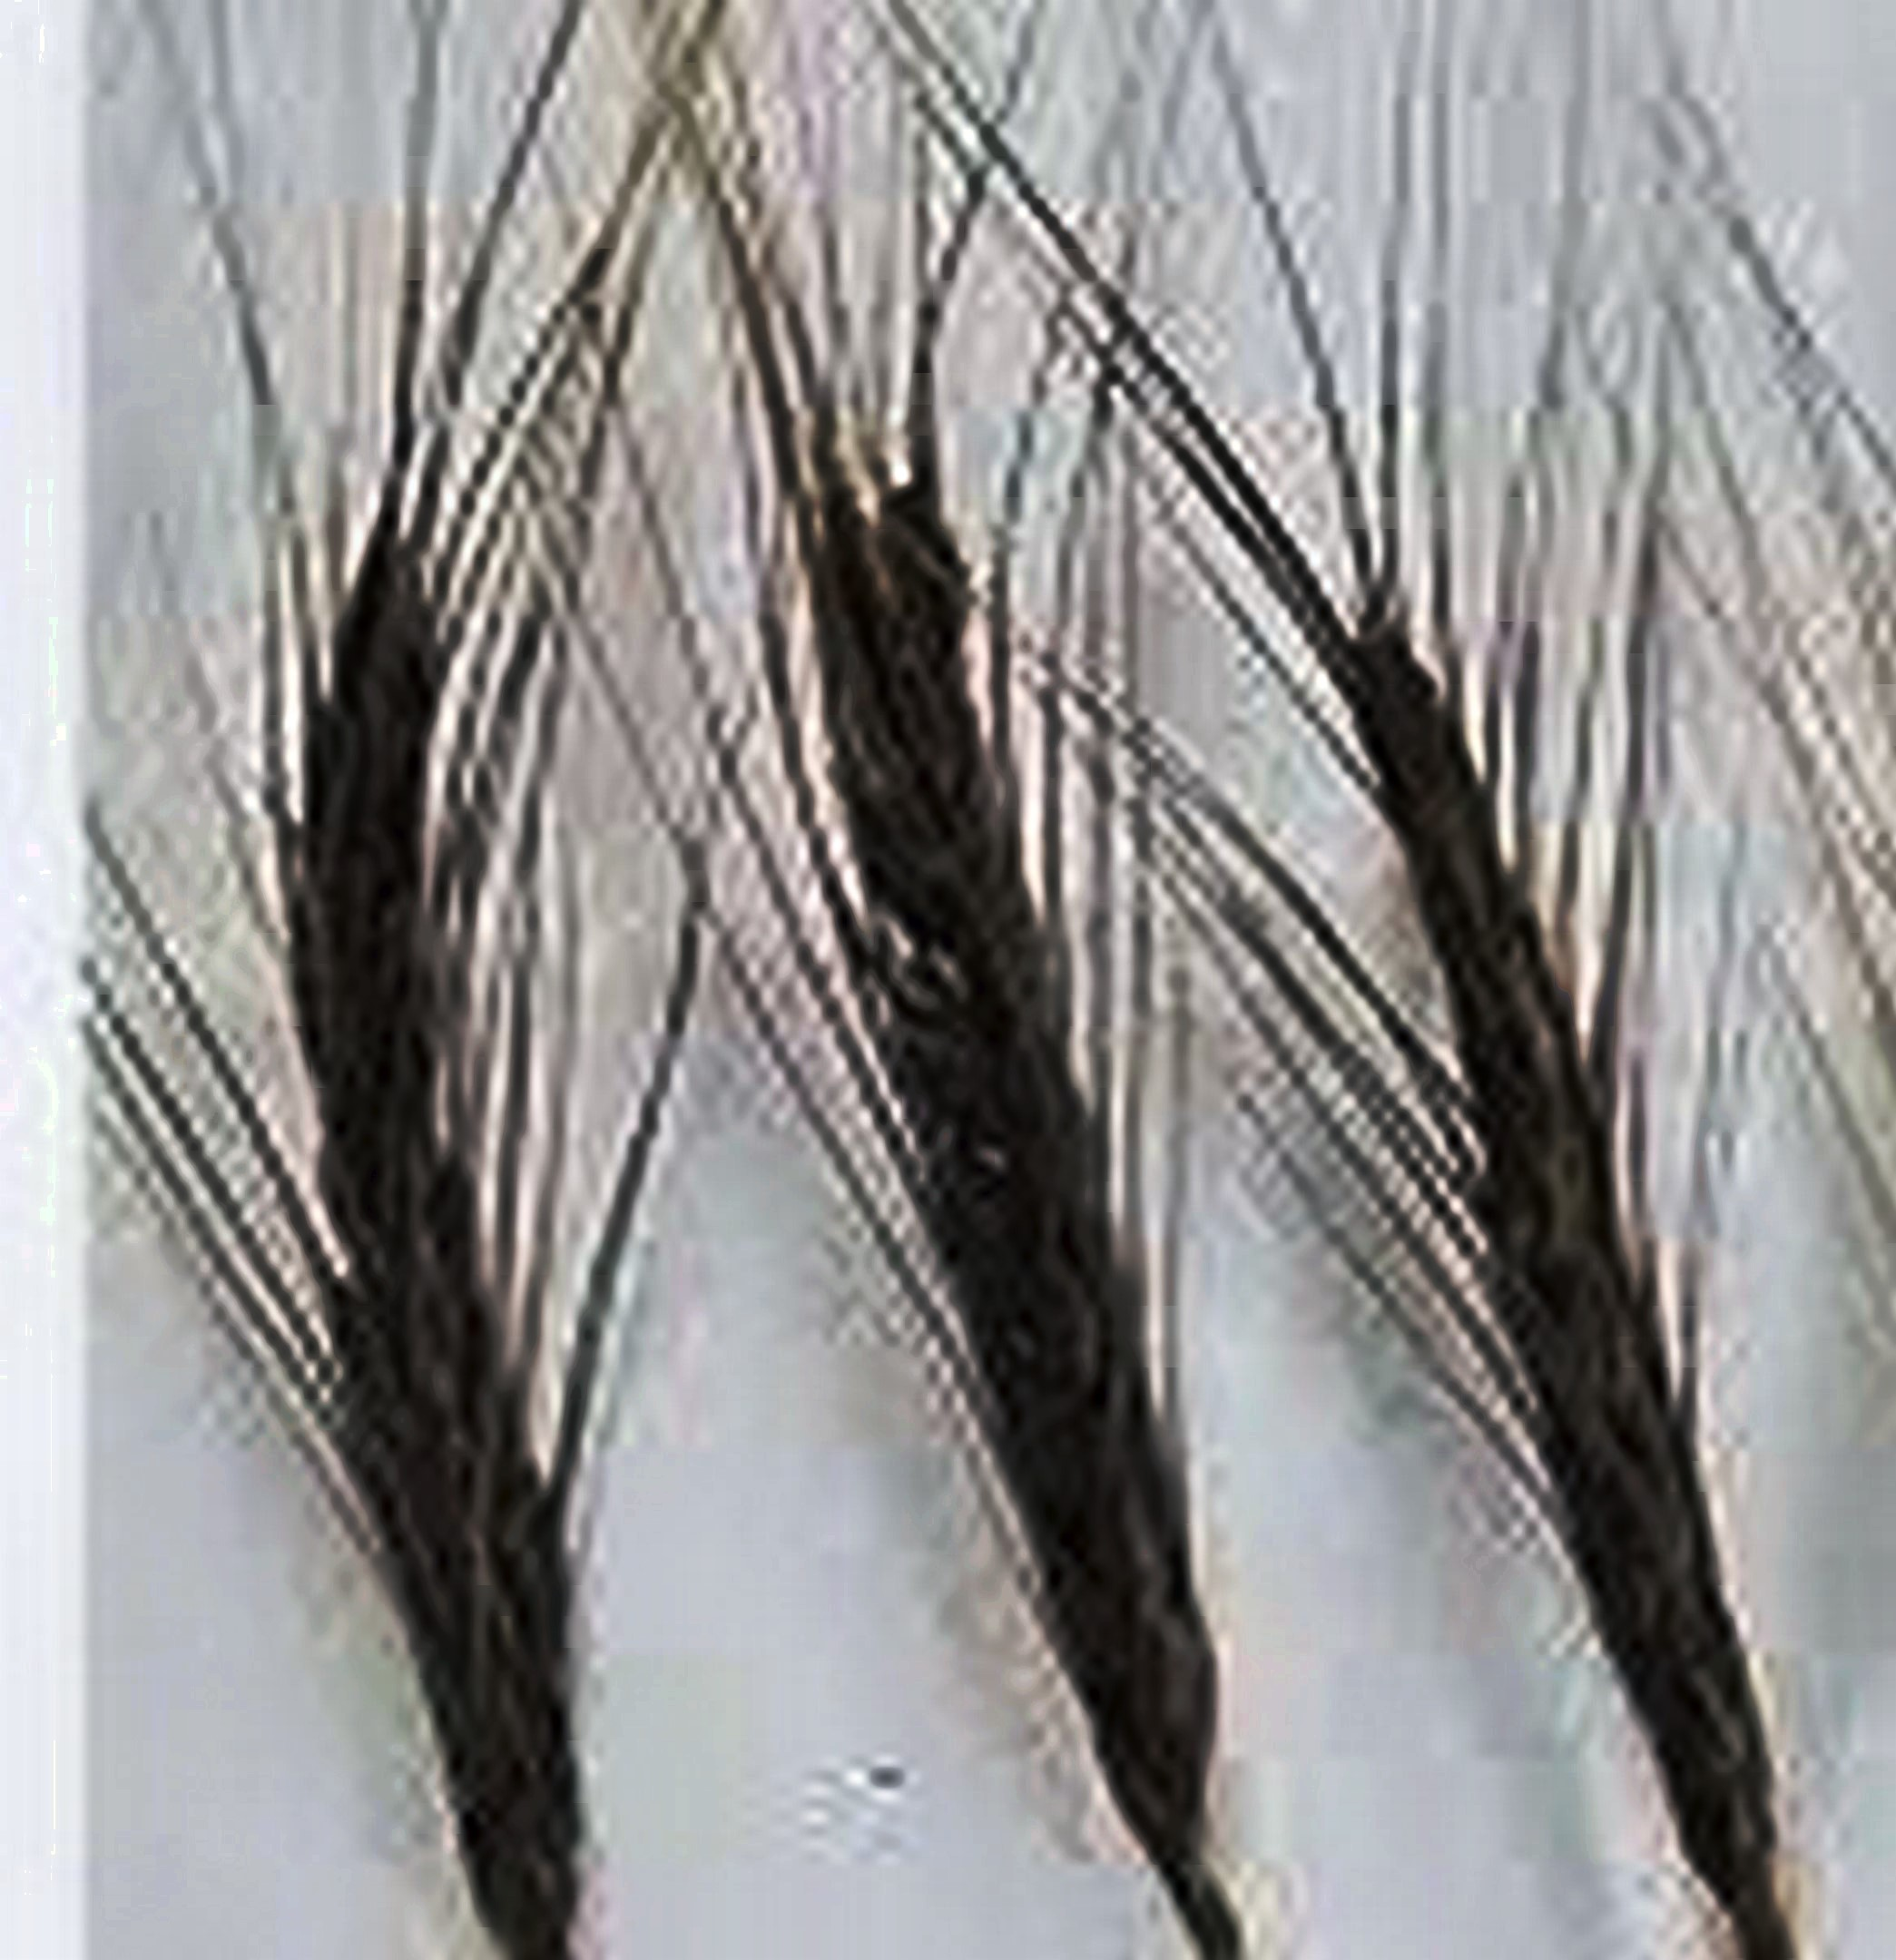Wheat Loose Smut: (207, 500, 706, 1834)
